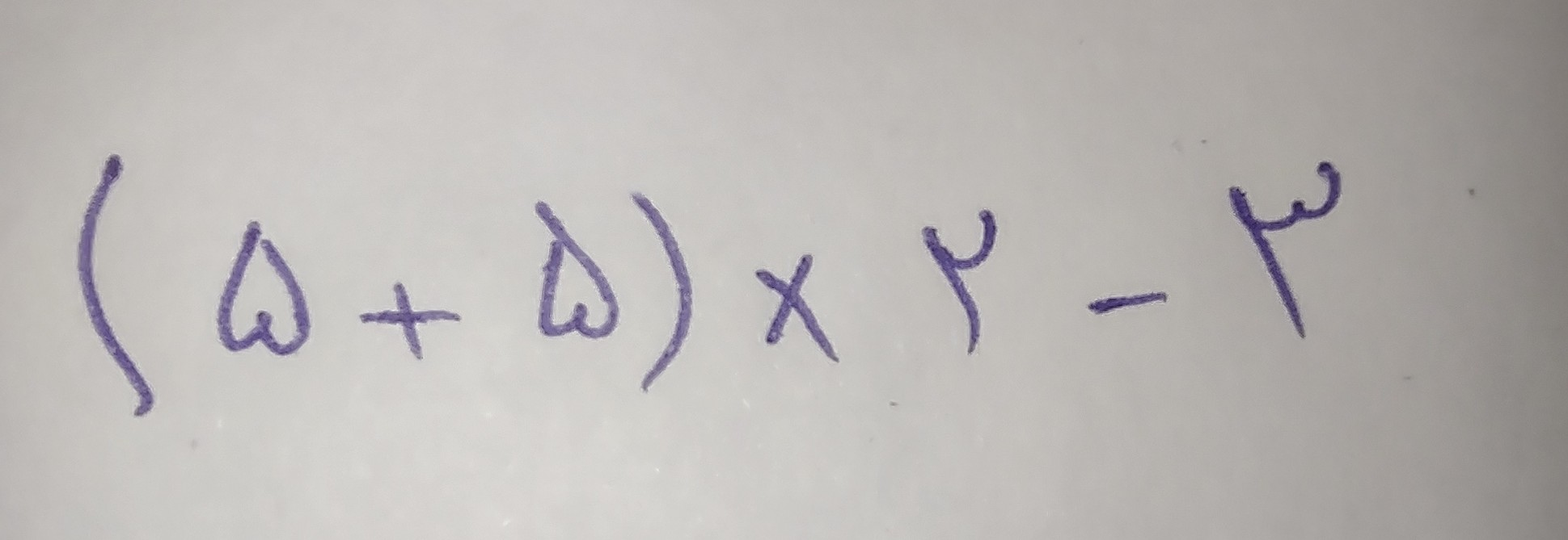character: (76, 154, 154, 419), (1229, 161, 1343, 338), (630, 187, 696, 396), (216, 221, 312, 357), (922, 210, 1009, 356), (530, 200, 620, 340), (755, 253, 845, 366), (360, 281, 460, 359), (1088, 289, 1170, 317)
